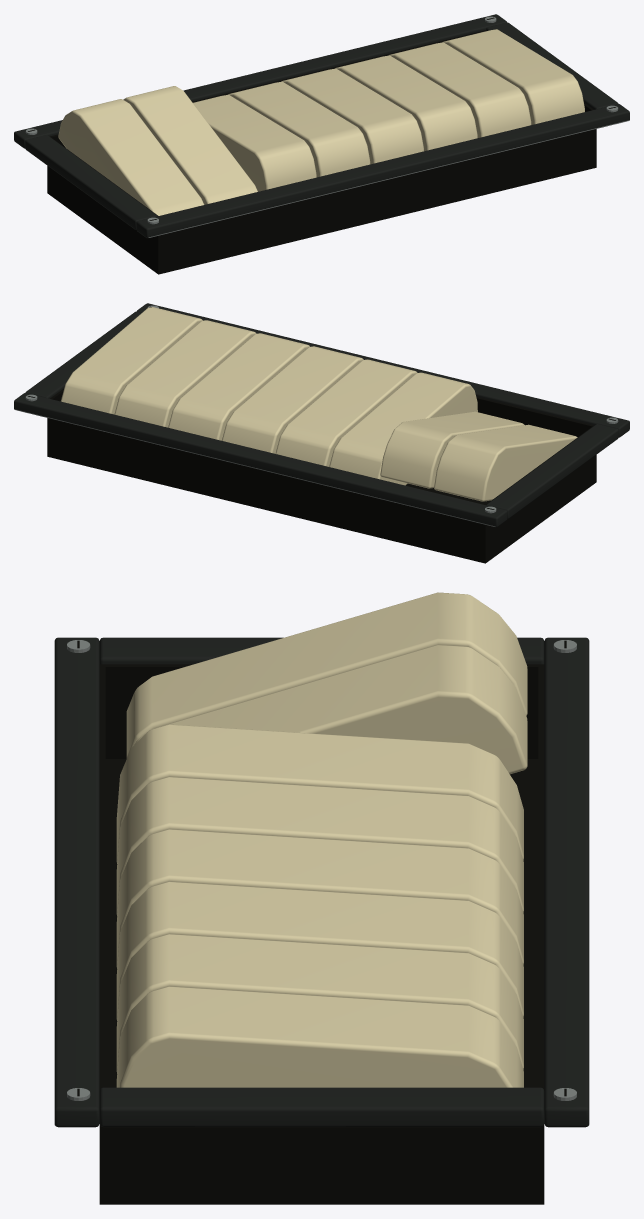
File: piano_switches_8gang_optimized.glb
The picture shows the model from 3 angles, top to bottom: view 1: azimuth 30°, elevation 25°; view 2: azimuth 150°, elevation 25°; view 3: azimuth 270°, elevation 25°; orthographic projection. The views are drawn at different scales.
Visible parts, largest first — view 1: Cavity_Long_-1, Frame_Long_-1, Rocker_Key_01, Rocker_Key_02, Rocker_Key_03, Rocker_Key_06, Rocker_Key_07, Rocker_Key_04, Rocker_Key_05, Rocker_Key_08, Recess_Floor, Frame_Long_1 (+5 smaller); view 2: Cavity_Long_1, Frame_Long_1, Rocker_Key_01, Rocker_Key_07, Rocker_Key_06, Rocker_Key_04, Rocker_Key_05, Rocker_Key_08, Rocker_Key_03, Recess_Floor, Rocker_Key_02, Frame_End_-1 (+5 smaller); view 3: Rocker_Key_08, Cavity_End_1, Frame_Long_1, Frame_Long_-1, Rocker_Key_05, Rocker_Key_04, Rocker_Key_06, Rocker_Key_03, Rocker_Key_07, Rocker_Key_02, Rocker_Key_01, Recess_Floor (+5 smaller).
Part boxes in pixels (box(x1,y1,x2,y2)): Cavity_Long_-1: box(158, 129, 596, 265); Frame_Long_-1: box(136, 104, 629, 238); Rocker_Key_01: box(58, 99, 204, 215); Rocker_Key_02: box(123, 86, 257, 204); Rocker_Key_03: box(193, 95, 316, 191); Rocker_Key_06: box(335, 55, 477, 151); Rocker_Key_07: box(388, 42, 531, 137); Rocker_Key_04: box(227, 81, 370, 177); Rocker_Key_05: box(281, 68, 423, 164); Rocker_Key_08: box(442, 29, 584, 124); Recess_Floor: box(47, 158, 596, 274); Frame_Long_1: box(14, 14, 507, 148); Cavity_Long_1: box(47, 418, 485, 554); Frame_Long_1: box(14, 393, 507, 527); Rocker_Key_01: box(434, 424, 577, 501); Rocker_Key_07: box(114, 320, 256, 427); Rocker_Key_06: box(168, 333, 309, 440); Rocker_Key_04: box(275, 359, 417, 466); Rocker_Key_05: box(222, 346, 363, 453); Rocker_Key_08: box(61, 307, 202, 414); Rocker_Key_03: box(329, 372, 477, 485); Recess_Floor: box(47, 447, 596, 563); Rocker_Key_02: box(380, 411, 524, 488); Frame_End_-1: box(487, 424, 618, 518); Rocker_Key_08: box(116, 986, 523, 1087); Cavity_End_1: box(99, 1124, 544, 1187); Frame_Long_1: box(544, 637, 589, 1127); Frame_Long_-1: box(54, 637, 99, 1127); Rocker_Key_05: box(116, 829, 523, 968); Rocker_Key_04: box(116, 777, 523, 915); Rocker_Key_06: box(116, 881, 523, 1020); Rocker_Key_03: box(116, 724, 523, 863); Rocker_Key_07: box(116, 934, 523, 1073); Rocker_Key_02: box(134, 645, 527, 774); Rocker_Key_01: box(126, 592, 527, 758); Recess_Floor: box(99, 759, 544, 1204).
Bounding box in the file's own units: 0.0743 × 0.0141 × 0.0356.
